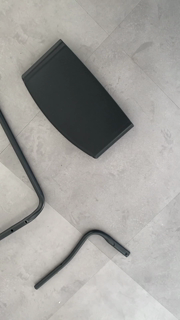Back: (20, 37, 139, 165)
L pipe: (32, 226, 133, 292)
